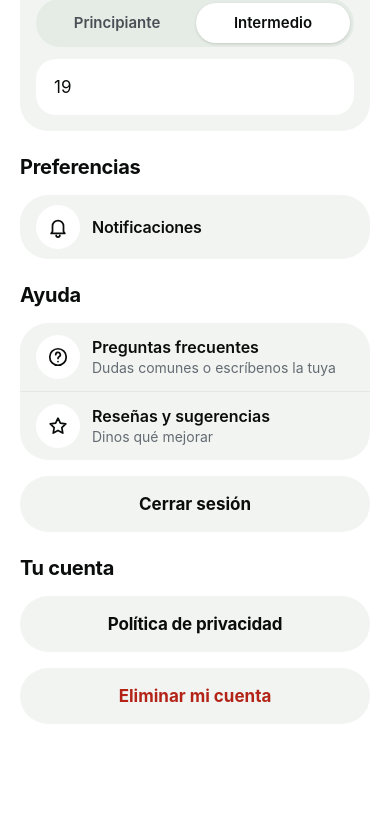
it: Eliminar mi cuenta › keeps everything when the password is wrong
(page scrolled)
Step 1. Click the button "Eliminar mi cuenta" → (195, 696), box [20,668,370,724]
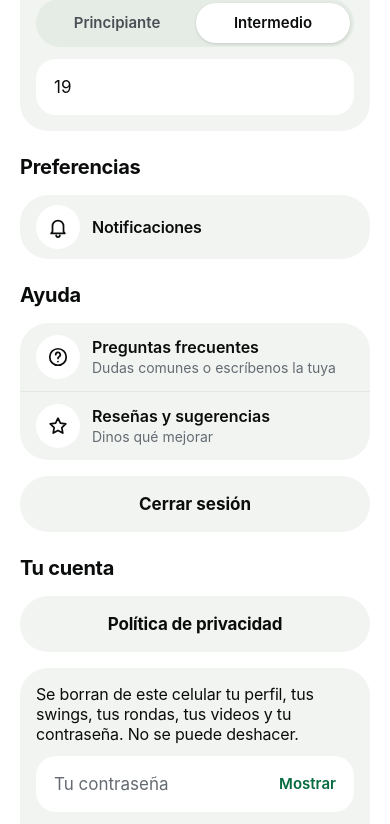
Step 2. Type "otra-clave1" into the password field labelled "Tu contraseña" → (195, 784), box [36,756,354,812]
(page scrolled)
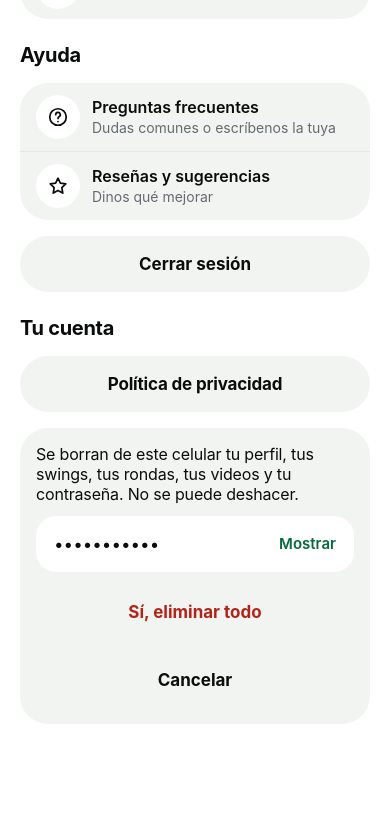
Step 3. Click the button "Sí, eliminar todo" → (195, 612), box [36,584,354,640]
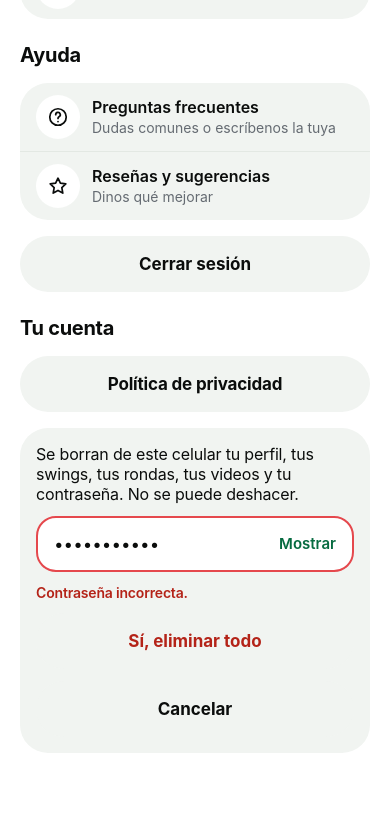
Expected: the text "Contraseña incorrecta." is shown, [36,584,188,601]
